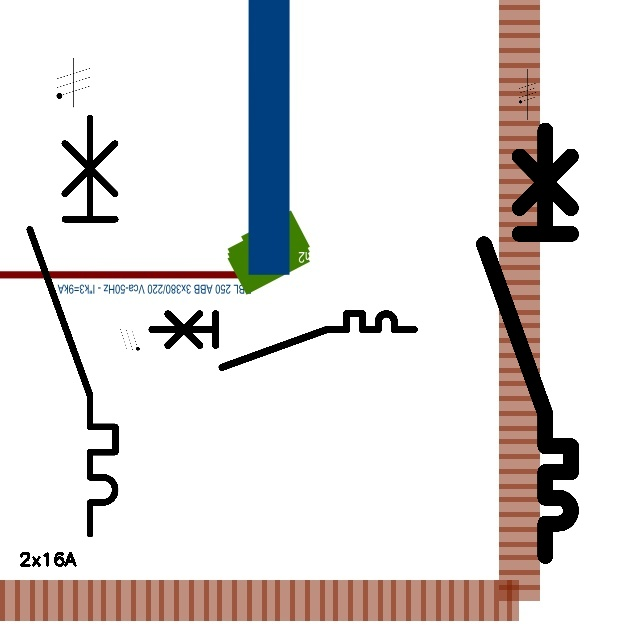interruptor_termomagnetico: (473, 119, 582, 566), (19, 107, 126, 544), (145, 307, 420, 374)
